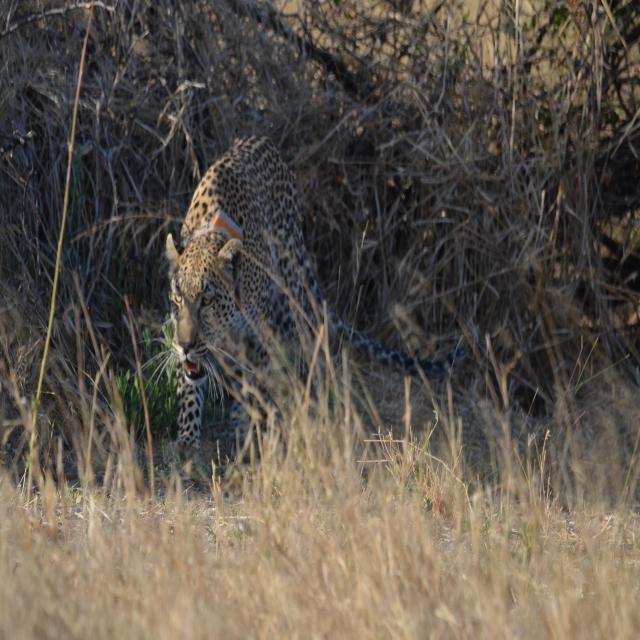Leopard: (165, 132, 402, 469)
